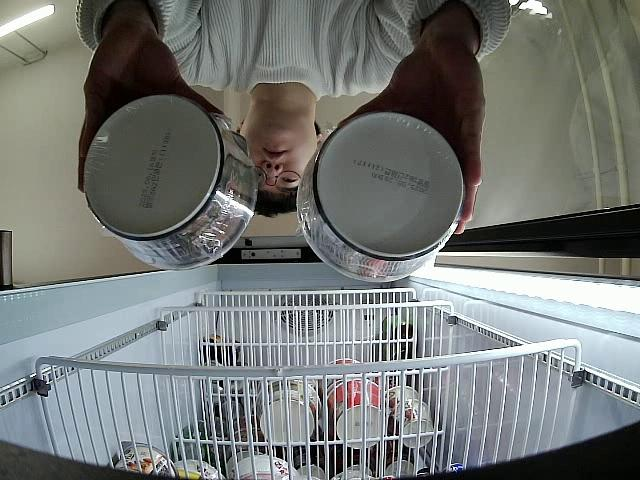00_hand: (337, 41, 487, 236), (77, 29, 225, 193)
07_buldak_L: (82, 91, 258, 270), (296, 110, 465, 283)
